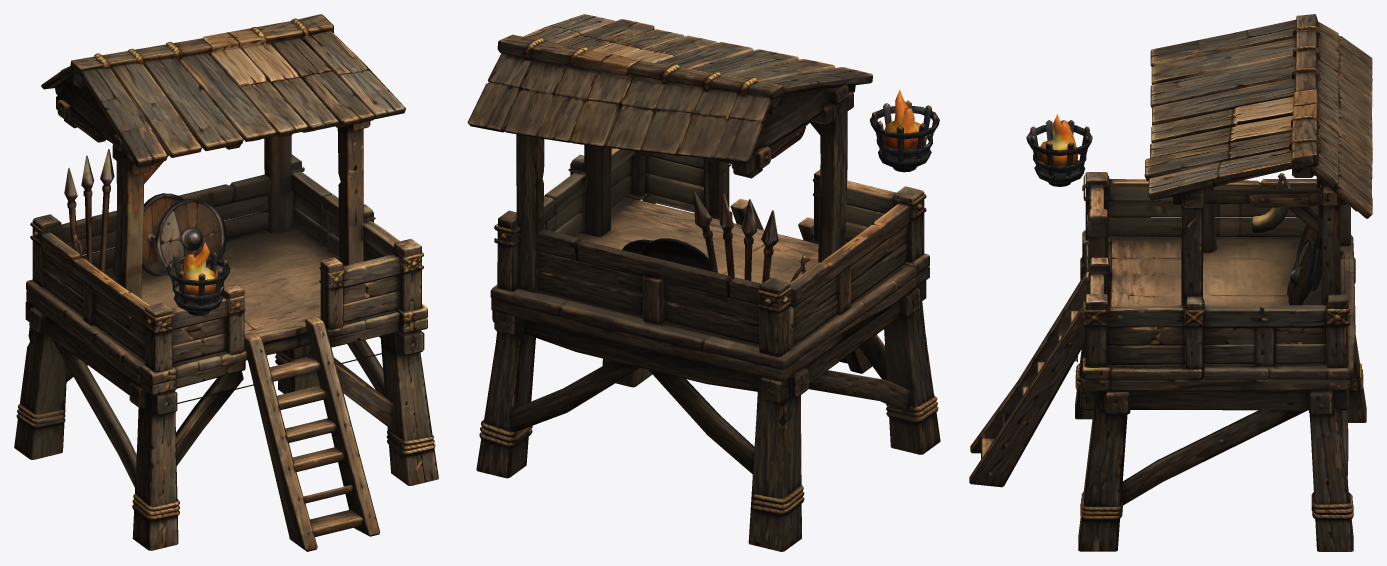
File: act1_extras_v1_watch_post.glb
3 renders of one model, left to right at view 1: azimuth 30°, elevation 25°; view 2: azimuth 150°, elevation 25°; view 3: azimuth 270°, elevation 25°, orthographic. The views are drawn at different scales.
Parts seen in each view (by area): view 1: f77541ce_0304_41f4_ade9_ef0d6b43387d; view 2: f77541ce_0304_41f4_ade9_ef0d6b43387d; view 3: f77541ce_0304_41f4_ade9_ef0d6b43387d.
Part boxes in pixels (<box>): f77541ce_0304_41f4_ade9_ef0d6b43387d: <box>14,14,438,551</box>; f77541ce_0304_41f4_ade9_ef0d6b43387d: <box>467,14,940,551</box>; f77541ce_0304_41f4_ade9_ef0d6b43387d: <box>969,14,1372,551</box>.
Bounding box in the file's own units: 0.7715 × 0.9995 × 0.8911.
1 material, 1 textured.
